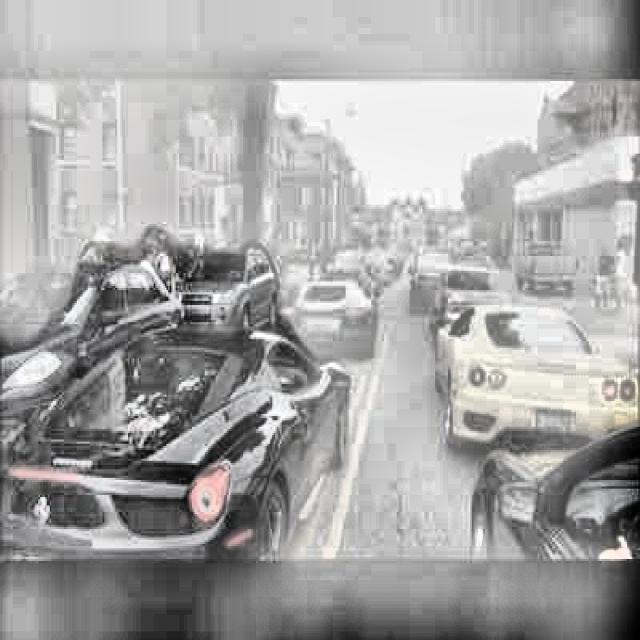license_plate: (535, 406, 579, 439)
